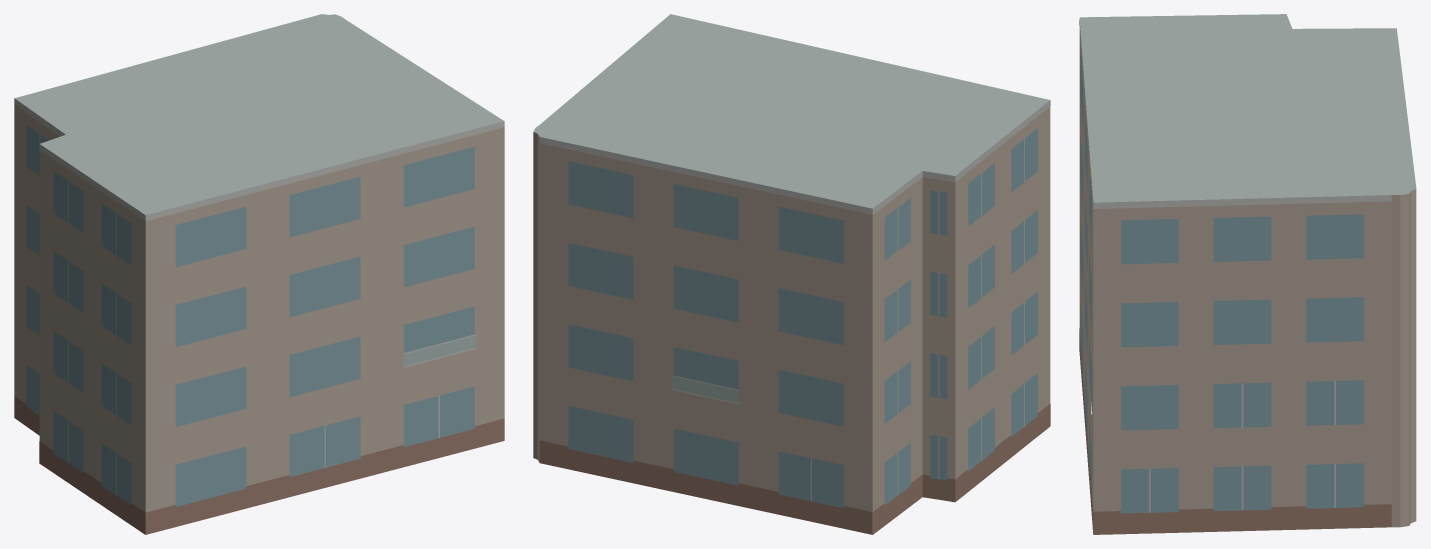
The model's file is survey-upis-33032914.glb.
The picture shows the model from 3 angles, left to right: view 1: azimuth 30°, elevation 25°; view 2: azimuth 150°, elevation 25°; view 3: azimuth 270°, elevation 25°; orthographic projection. The views are drawn at different scales.
Parts seen in each view (by area): view 1: survey-upis-33032914.tmp; view 2: survey-upis-33032914.tmp; view 3: survey-upis-33032914.tmp.
Part boxes in pixels (x1=…): survey-upis-33032914.tmp: x1=14, y1=14, x2=504, y2=534; survey-upis-33032914.tmp: x1=533, y1=14, x2=1050, y2=534; survey-upis-33032914.tmp: x1=1079, y1=14, x2=1416, y2=534.
Size of the model in its own units: 15.6 by 12.8 by 11.78.
